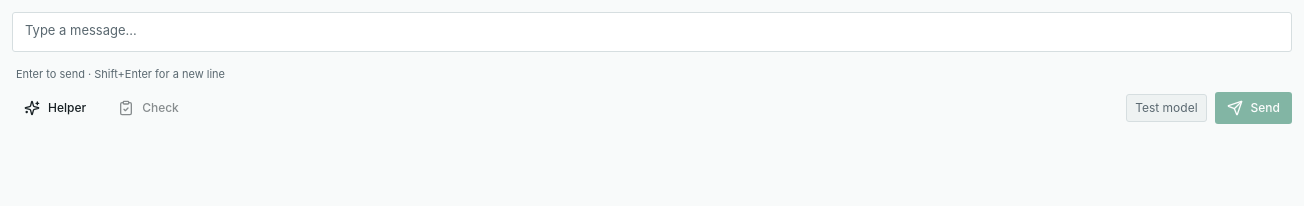
Test: ChatInput ambiguity hints › surfaces English vague-input hints under the English locale
The width and height of the screenshot is (1304, 206).
Step 1. Type "just make it nice" into the text box with test id "chat-input-textarea" → (652, 32), box [12,12,1292,52]
Wait 500 ms
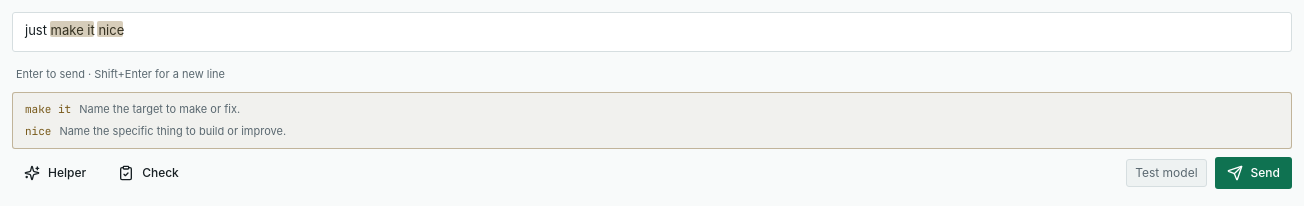
Expected: the list with test id "ambiguity-hint-list" shows "Name the specific thing", [59,124,286,138]
